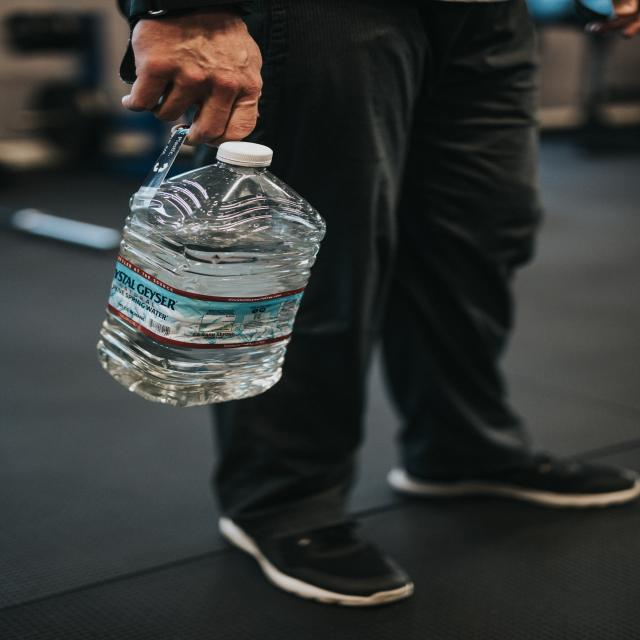Plastic: (87, 109, 357, 408)
